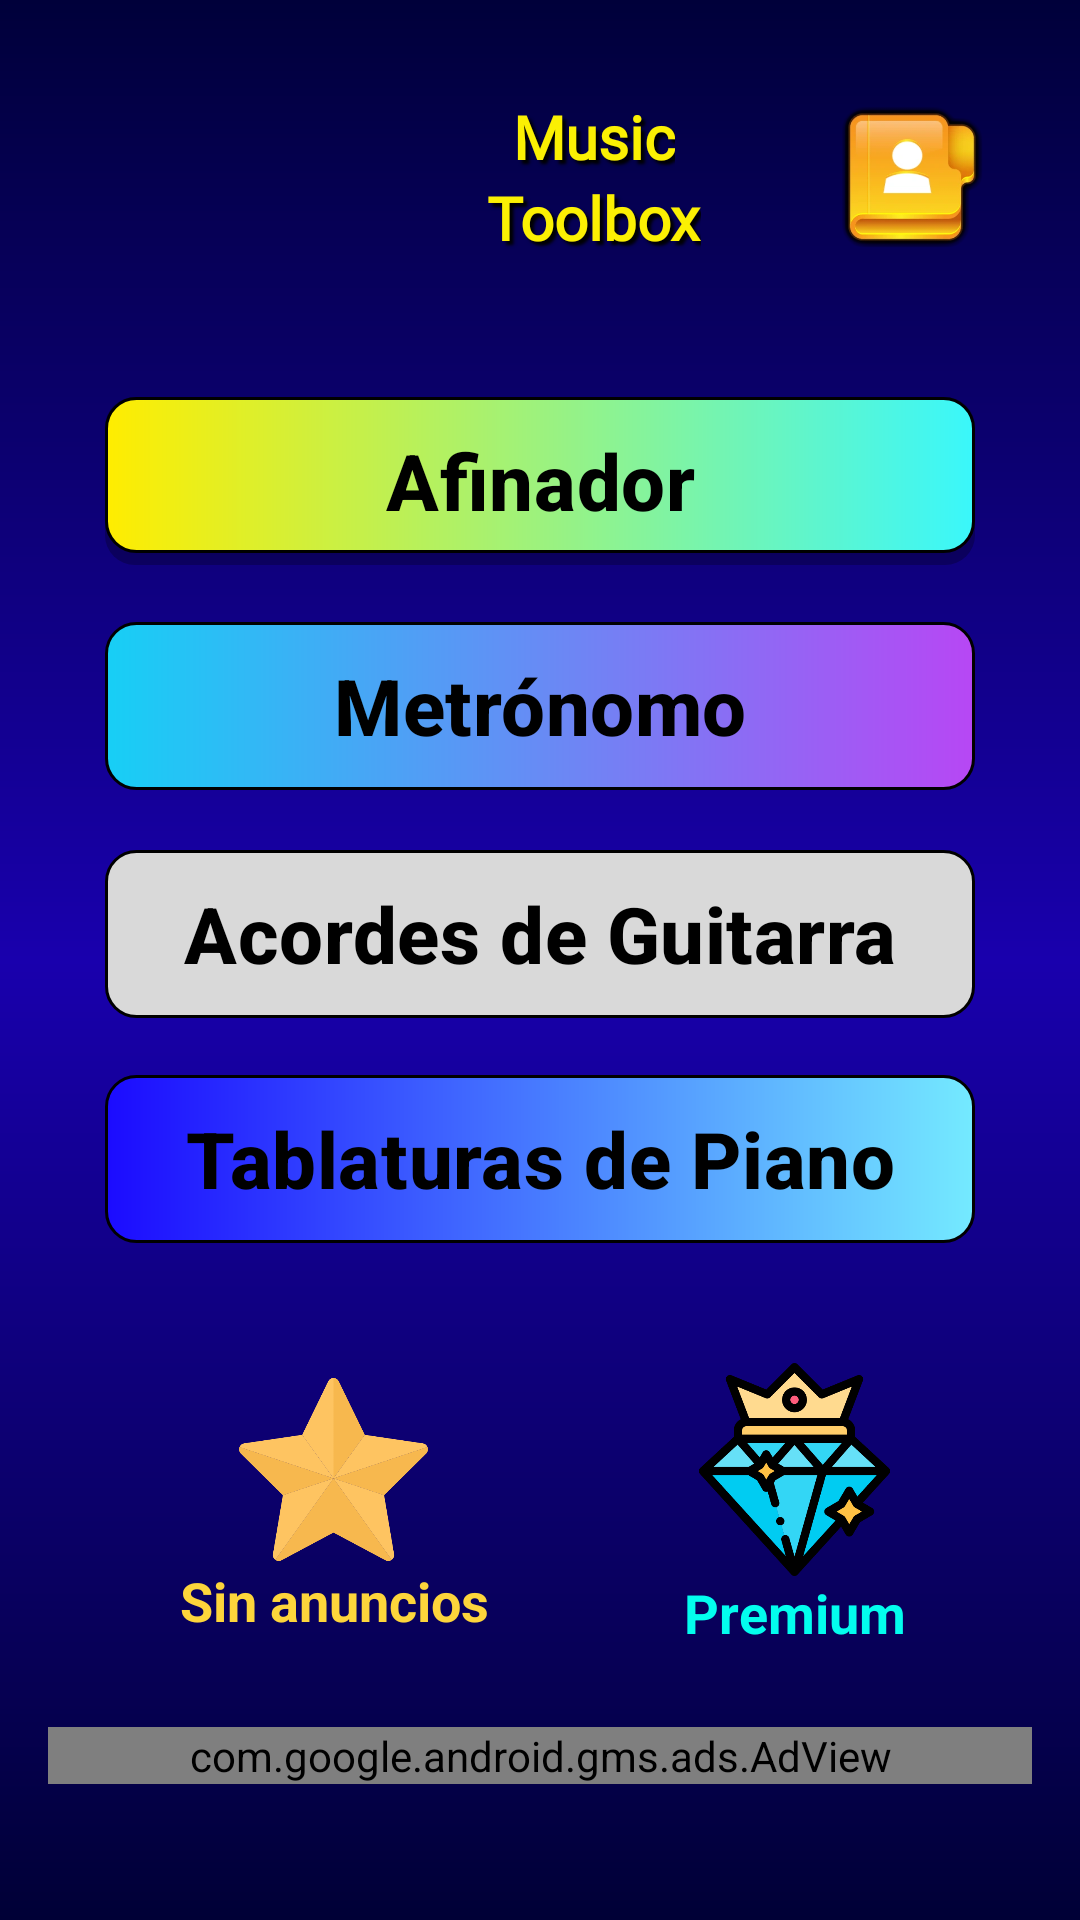

Screen size 1080×1920. Icon name, then its center in pixels as (x,y):
diamante: (794,1469)
folder profile: (912,177)
star: (333,1468)
